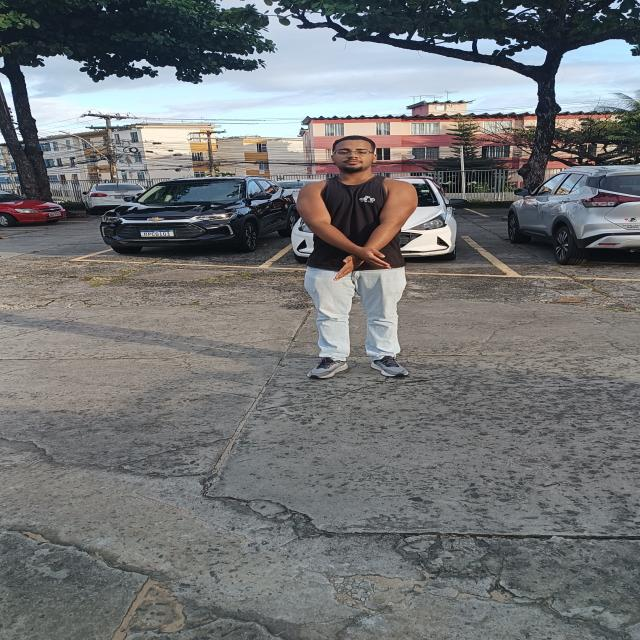land: (293, 135, 432, 379)
